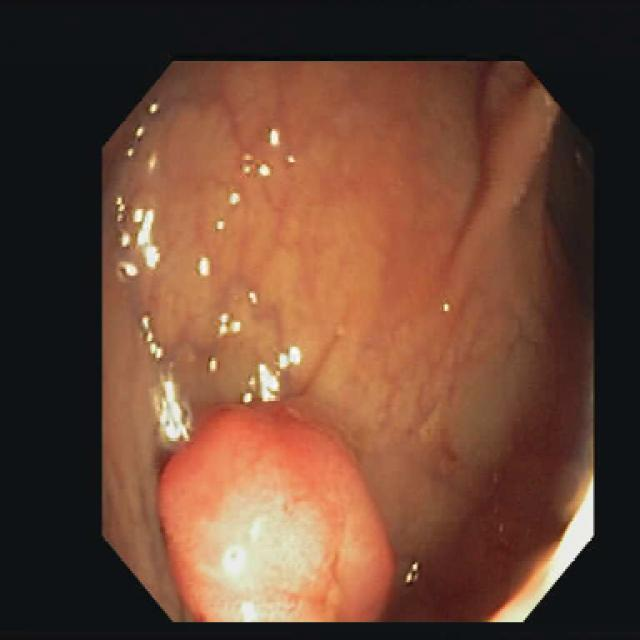tumor: (158, 402, 393, 620)
